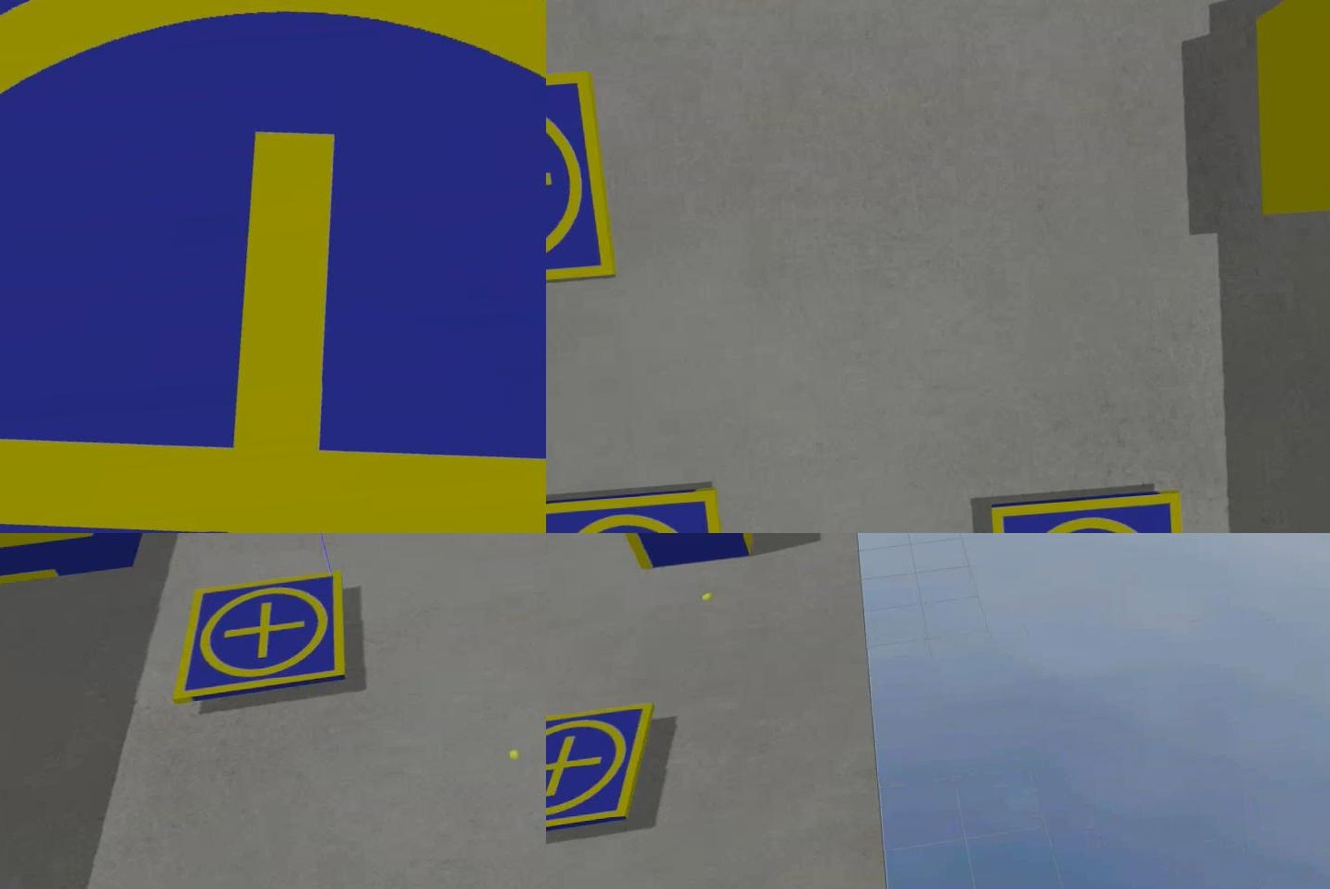small_base: (0, 1, 545, 534), (162, 569, 355, 709), (545, 701, 660, 845), (545, 65, 613, 295), (988, 492, 1193, 534)
